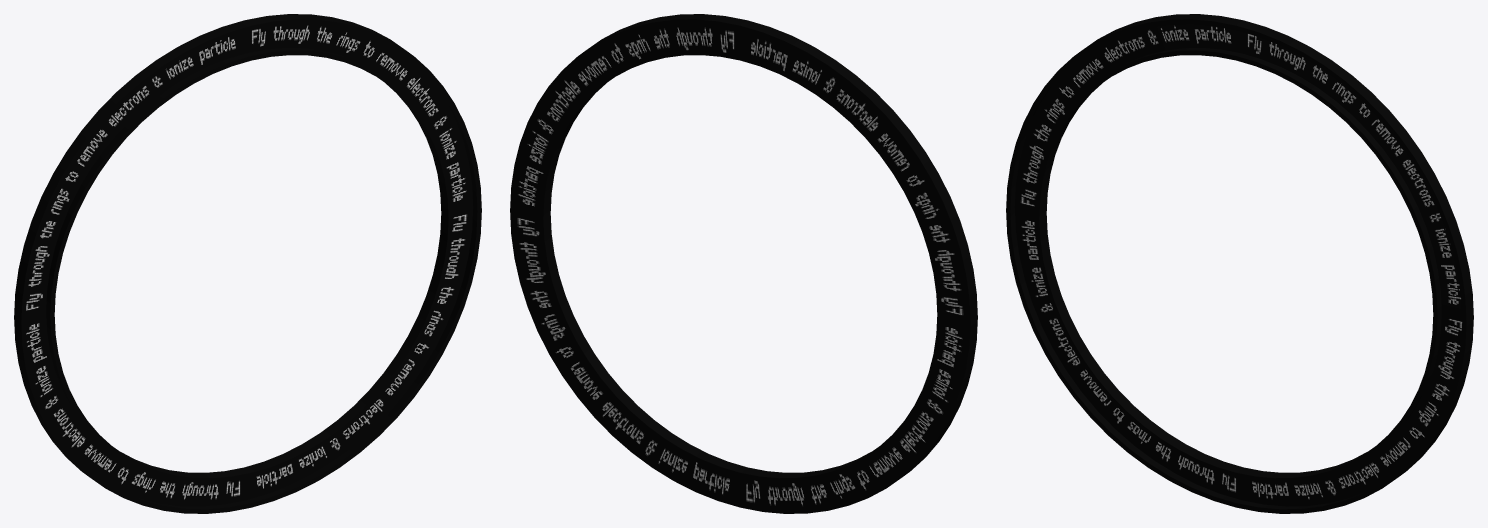
Rendered from signGate.fbx.
3 views of the same model, side by side, from view 1: azimuth 30°, elevation 25°; view 2: azimuth 150°, elevation 25°; view 3: azimuth 330°, elevation 25° (orthographic).
Visible parts, largest first — view 1: sign_gate; view 2: sign_gate; view 3: sign_gate.
Boxes of the visible parts, box(x1,y1,x2,y2) form: sign_gate: box(14, 14, 481, 513); sign_gate: box(510, 14, 977, 513); sign_gate: box(1006, 14, 1473, 513).
Size of the model in its own units: 389 by 389 by 10.7.
